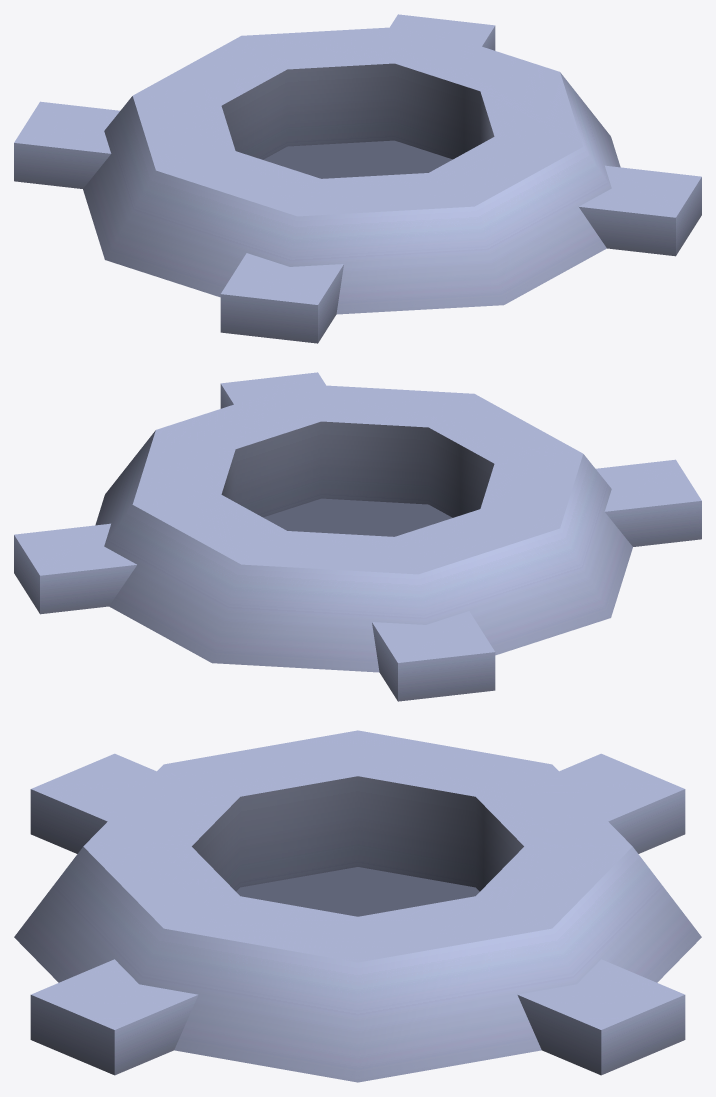
The model's file is spawn-round.glb.
The picture shows the model from 3 angles, top to bottom: view 1: azimuth 30°, elevation 25°; view 2: azimuth 150°, elevation 25°; view 3: azimuth 270°, elevation 25°; orthographic projection. The views are drawn at different scales.
Parts seen in each view (by area): view 1: spawn-round; view 2: spawn-round; view 3: spawn-round.
Boxes of the visible parts, x1,y1,x2,y2 form: spawn-round: (14,14,701,343); spawn-round: (14,372,701,701); spawn-round: (14,730,701,1082).
Size of the model in its own units: 0.6875 by 0.1 by 0.6875.
Materials: 1 (1 with a texture image).
